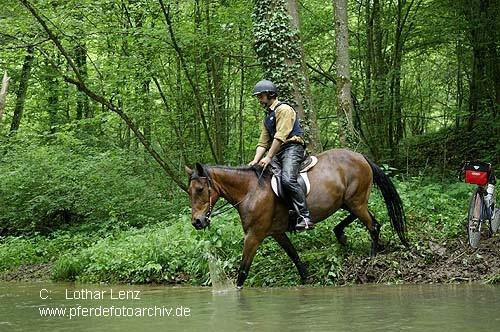tampered: (459, 162, 500, 249)
